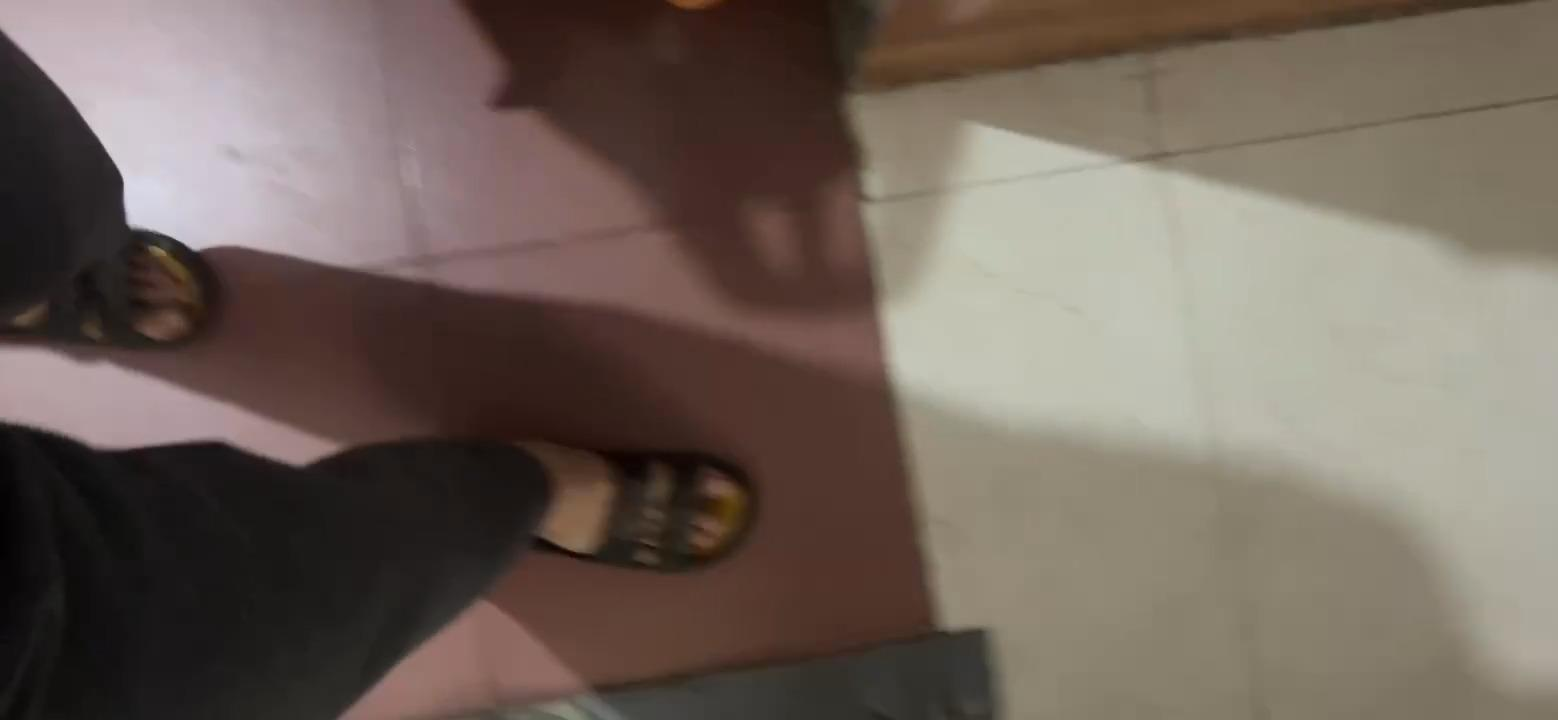no-boot: (493, 431, 764, 572)
